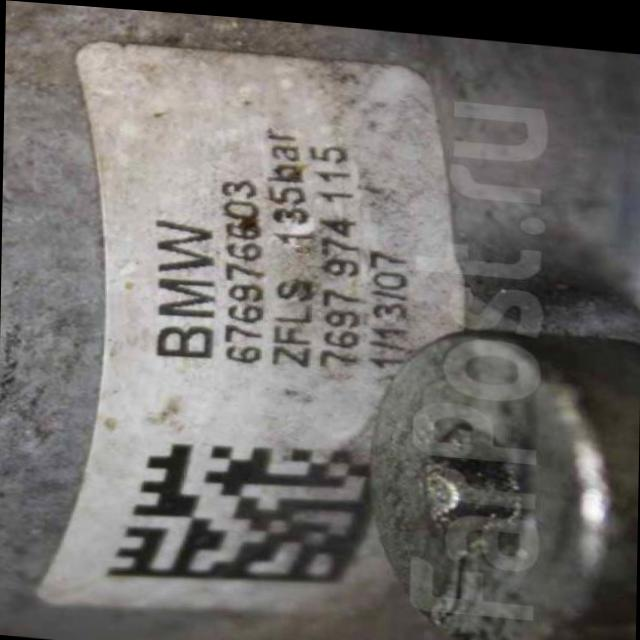datamatrix: (107, 427, 375, 594)
